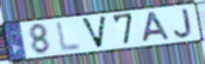7: (111, 12, 135, 47)
8: (27, 22, 52, 56)
A: (141, 11, 172, 44)
J: (172, 7, 194, 39)
L: (55, 19, 83, 54)
V: (80, 14, 109, 50)
